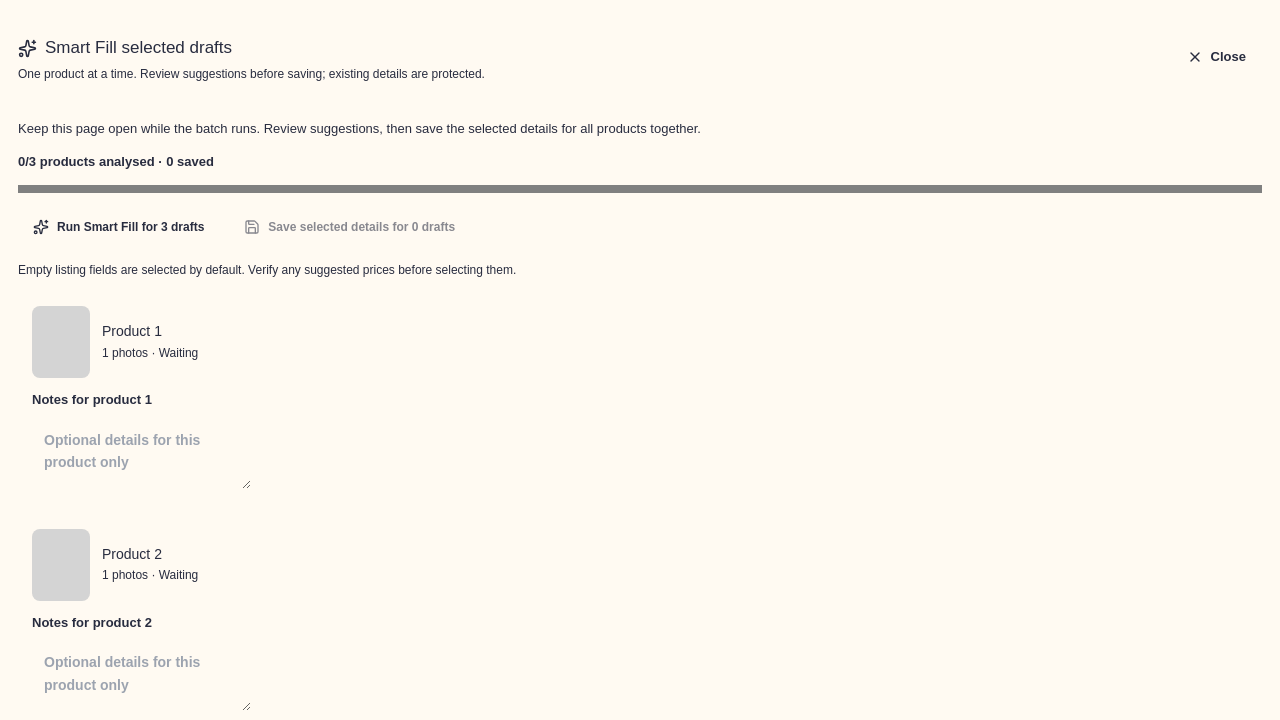
Test: provider quota failure pauses the batch and retains completed suggestions
The width and height of the screenshot is (1280, 720).
Step 1. Click the button "Run Smart Fill for 3 drafts" → [119, 227], box [18,205,219,249]
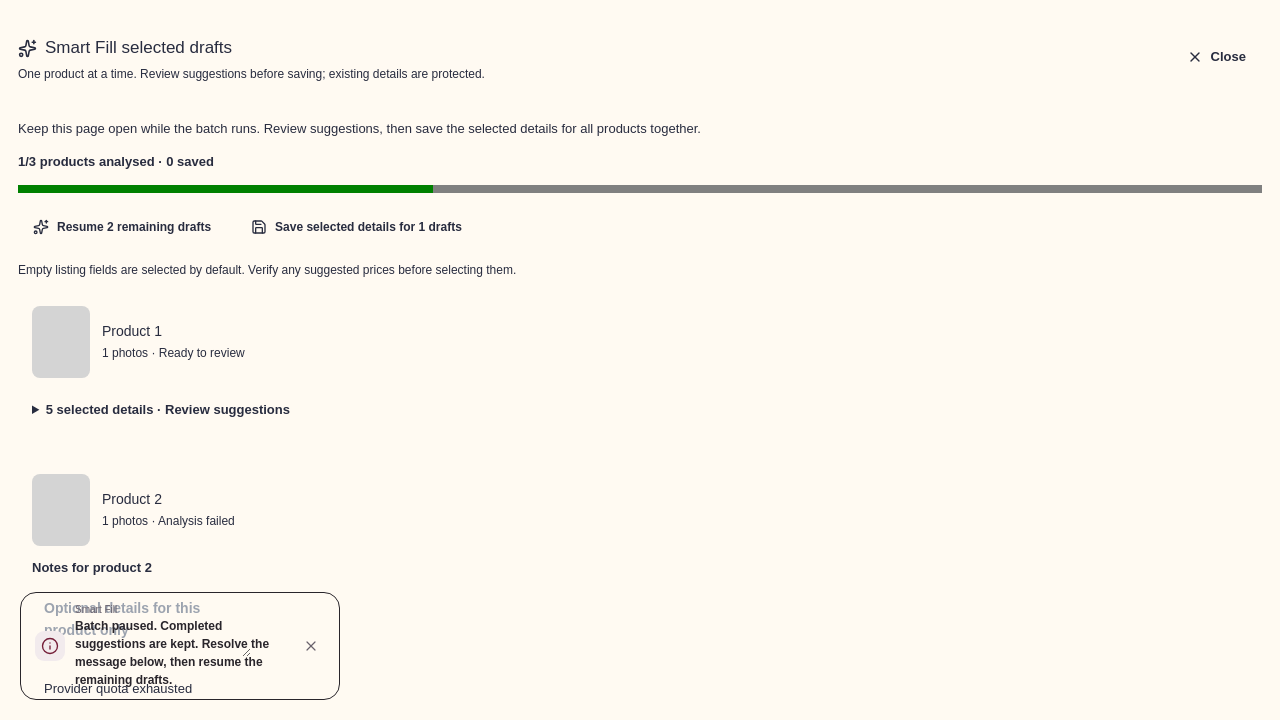
expect the message "Provider quota exhausted" is shown: met, box [44,681,192,696]
expect the button "Save selected details for 1 drafts" is enabled: met, box [236,205,477,249]
Step 2. Click the button "Resume 2 remaining drafts" → [122, 227], box [18,205,226,249]
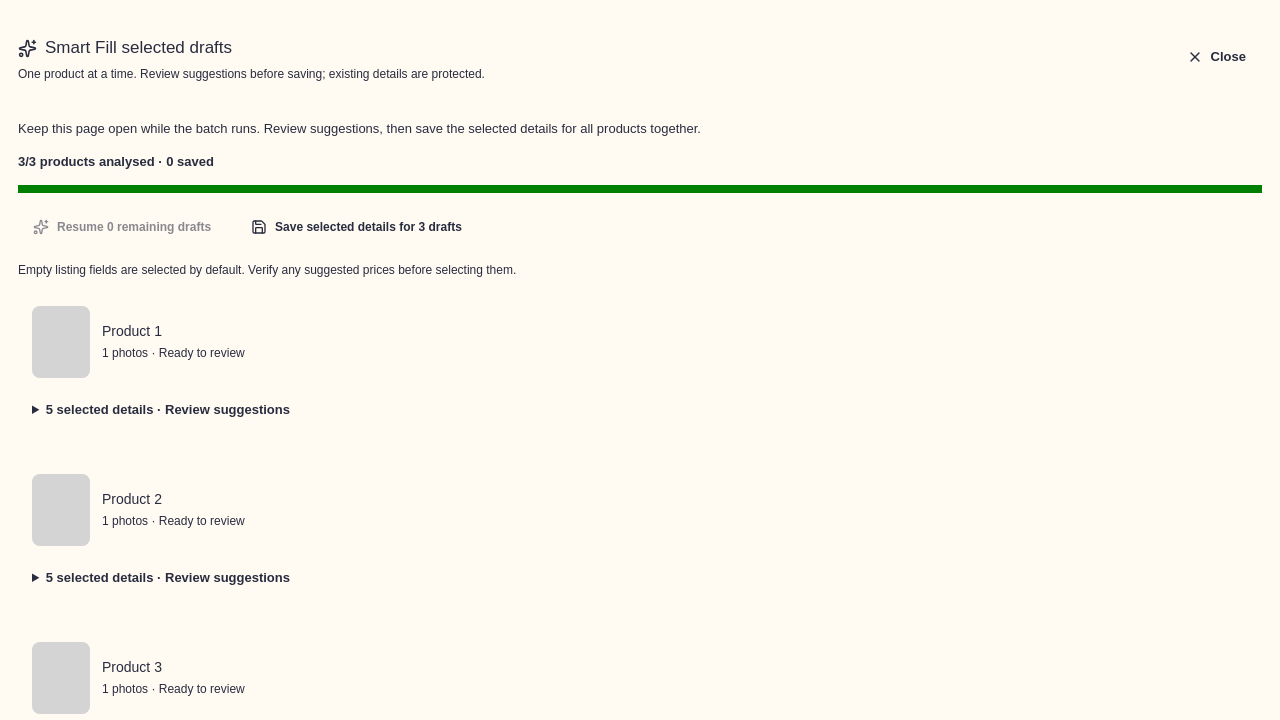
expect the text "3/3 products analysed · 0 saved" is shown: met, box [18,154,214,169]
